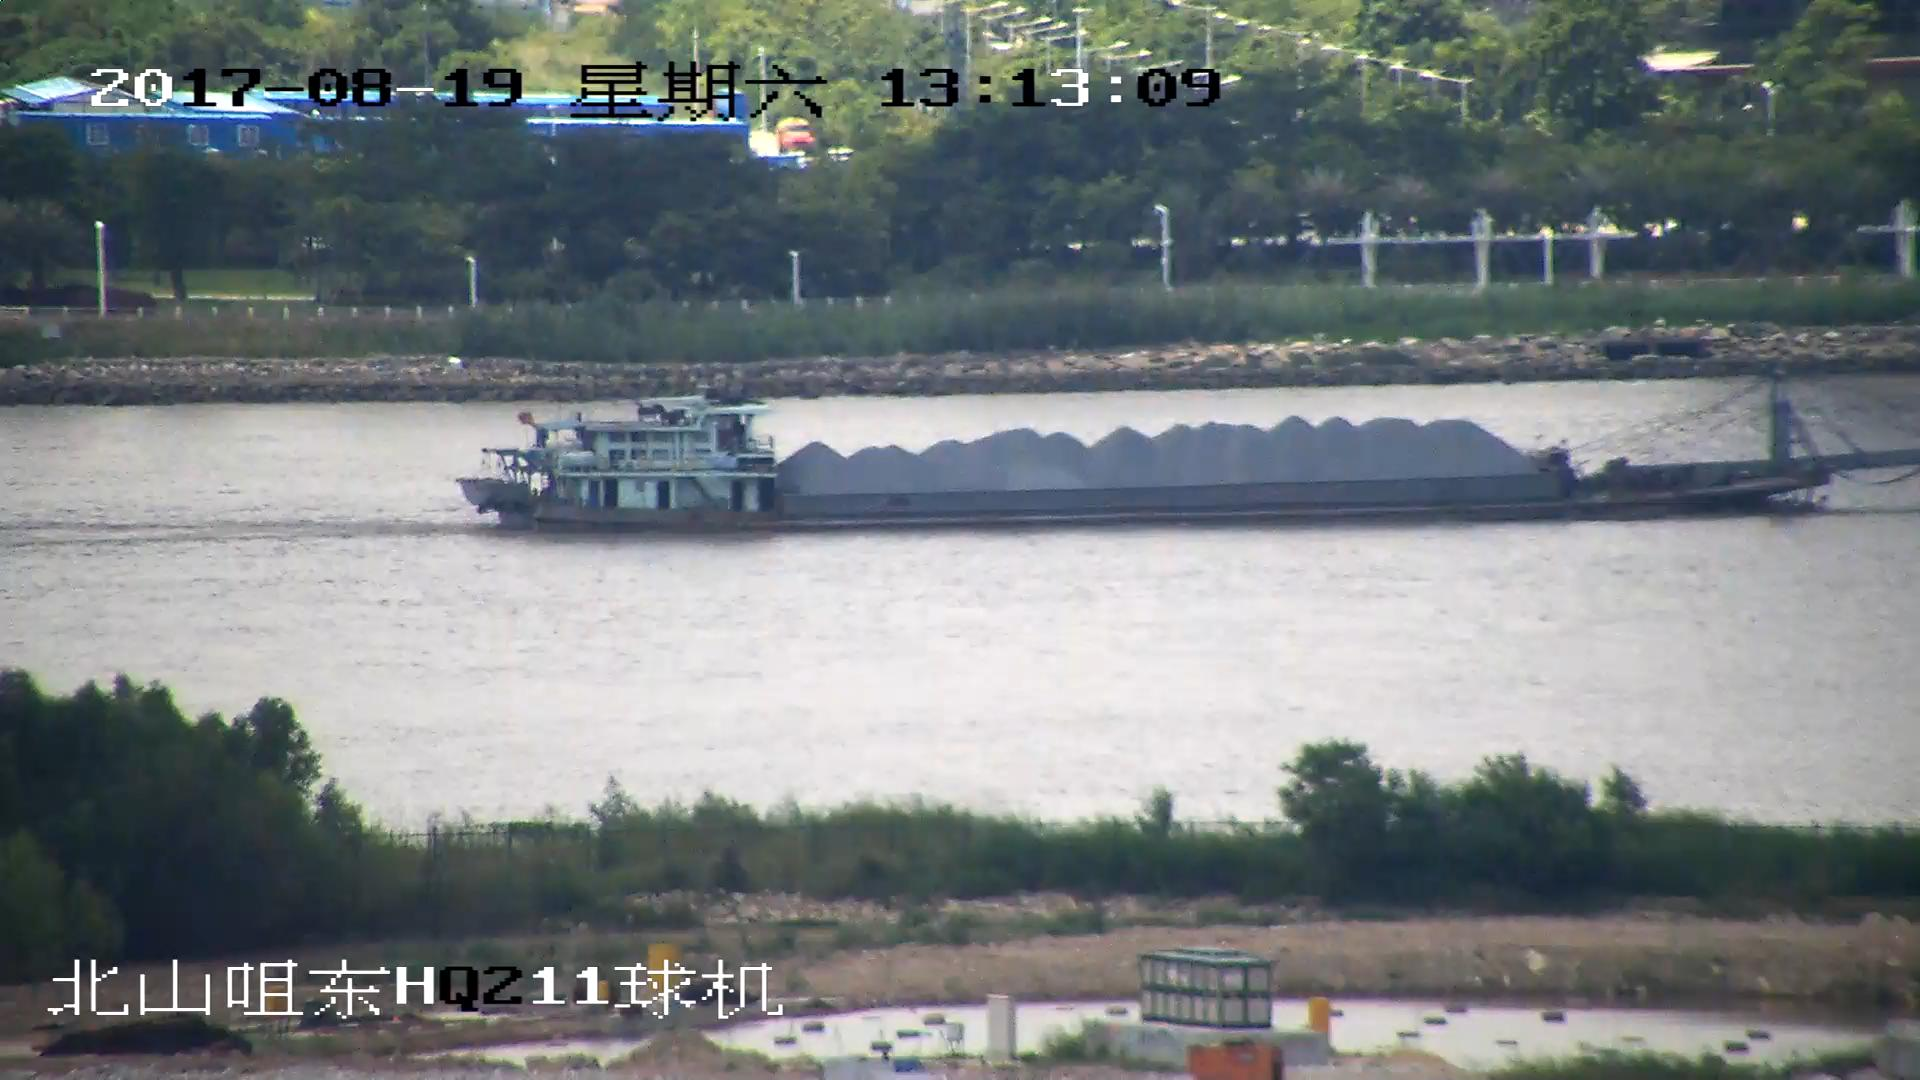ore carrier: (459, 379, 1920, 535)
